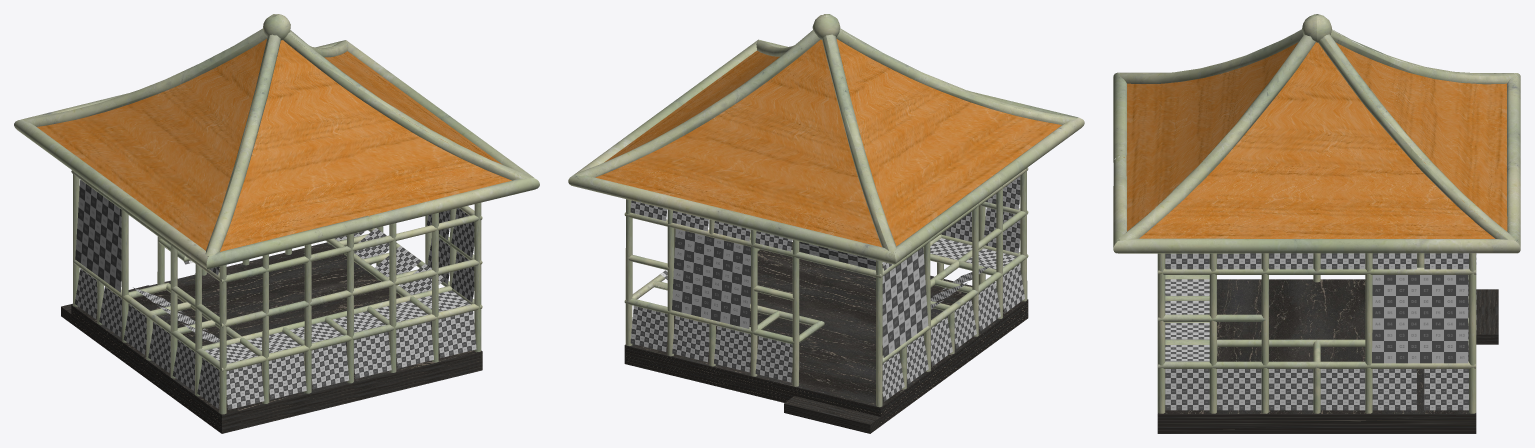
Rendered from Booth2_LP_Newspaper teahouse booth -Blank.glb.
3 renders of one model, left to right at view 1: azimuth 30°, elevation 25°; view 2: azimuth 150°, elevation 25°; view 3: azimuth 270°, elevation 25°, orthographic. The views are drawn at different scales.
Visible parts, largest first — view 1: ROOF SRF, FRAME 1, ROOF PIPE, FLOOR, Group, INTERIOR, RIGHT, Group 8, Group 1, Group 10; view 2: ROOF SRF, FLOOR, ROOF PIPE, FRAME 1, FRONT, RIGHT, Group 8, BACK, INTERIOR, Group 10; view 3: ROOF SRF, LEFT, ROOF PIPE, FLOOR, FRAME 1, INTERIOR.
Boxes of the visible parts, bbox=[...] form: ROOF SRF: bbox=[37, 39, 511, 251]; FRAME 1: bbox=[71, 170, 482, 414]; ROOF PIPE: bbox=[14, 14, 539, 269]; FLOOR: bbox=[61, 242, 482, 433]; Group: bbox=[226, 311, 476, 409]; INTERIOR: bbox=[133, 228, 470, 363]; RIGHT: bbox=[75, 180, 121, 292]; Group 8: bbox=[123, 304, 219, 408]; Group 1: bbox=[427, 208, 474, 302]; Group 10: bbox=[74, 268, 121, 336]; ROOF SRF: bbox=[596, 39, 1061, 247]; FLOOR: bbox=[624, 242, 1028, 433]; ROOF PIPE: bbox=[568, 14, 1084, 264]; FRAME 1: bbox=[624, 167, 1028, 407]; FRONT: bbox=[630, 200, 875, 382]; RIGHT: bbox=[882, 247, 928, 357]; Group 8: bbox=[931, 264, 1024, 366]; BACK: bbox=[941, 176, 1020, 253]; INTERIOR: bbox=[660, 231, 1016, 309]; Group 10: bbox=[882, 334, 928, 401]; ROOF SRF: bbox=[1123, 42, 1507, 238]; LEFT: bbox=[1165, 253, 1468, 410]; ROOF PIPE: bbox=[1113, 14, 1520, 253]; FLOOR: bbox=[1157, 279, 1498, 433]; FRAME 1: bbox=[1157, 253, 1476, 413]; INTERIOR: bbox=[1165, 279, 1209, 361].
Bounding box in the file's own units: 5.5 × 5.24 × 5.5.
5 materials, 5 textured.
